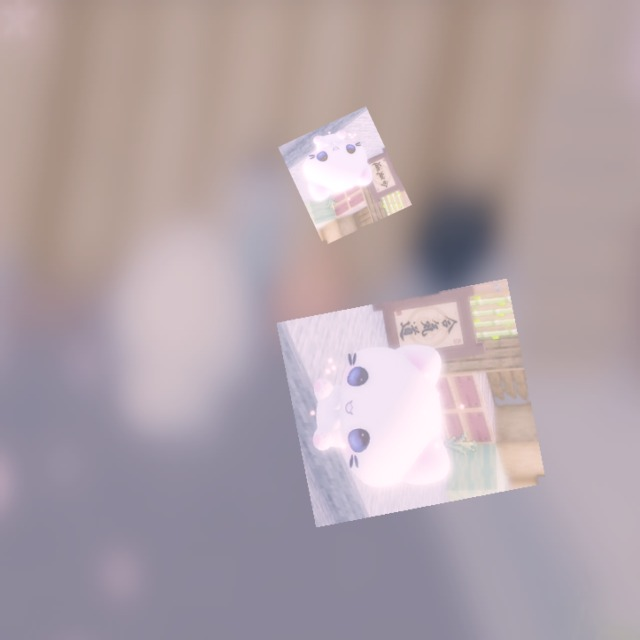urso_branco: (276, 278, 547, 528), (278, 106, 412, 246)
